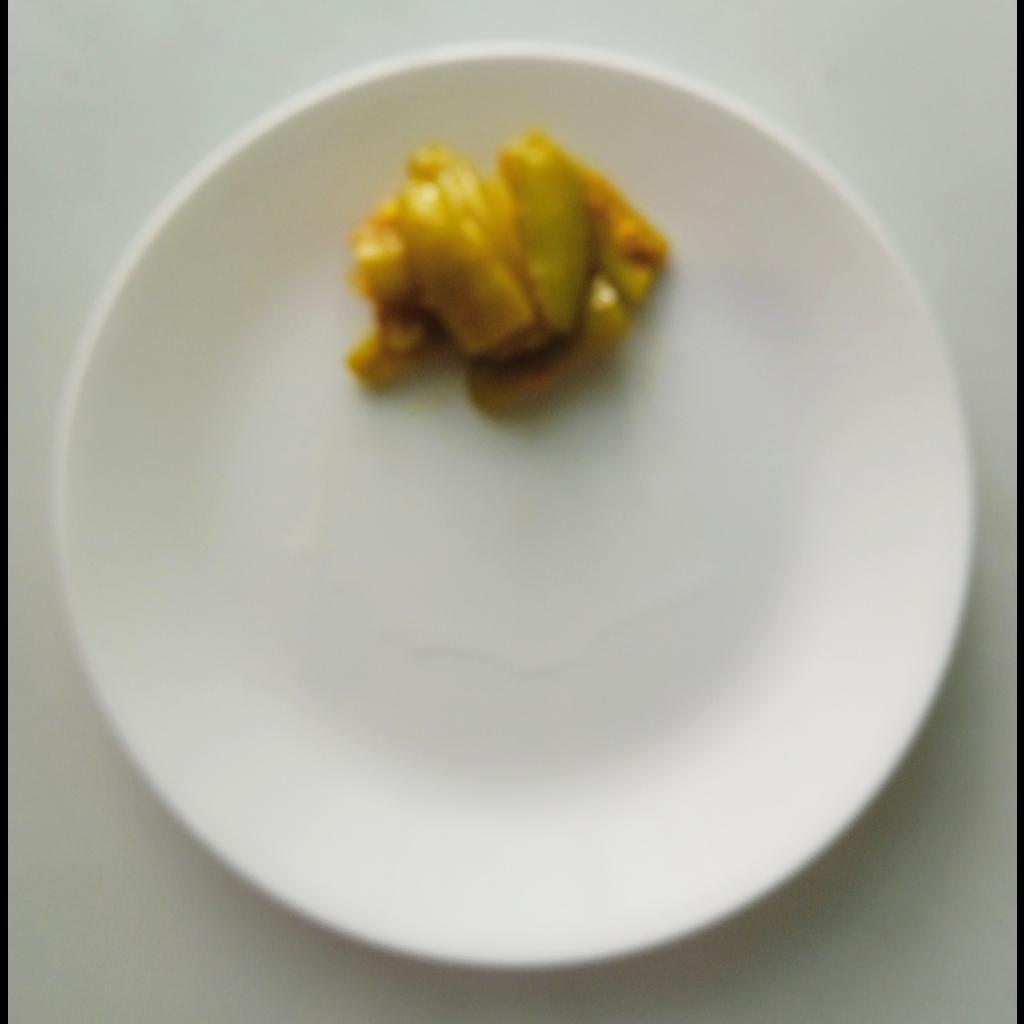potol: (341, 126, 674, 412)
